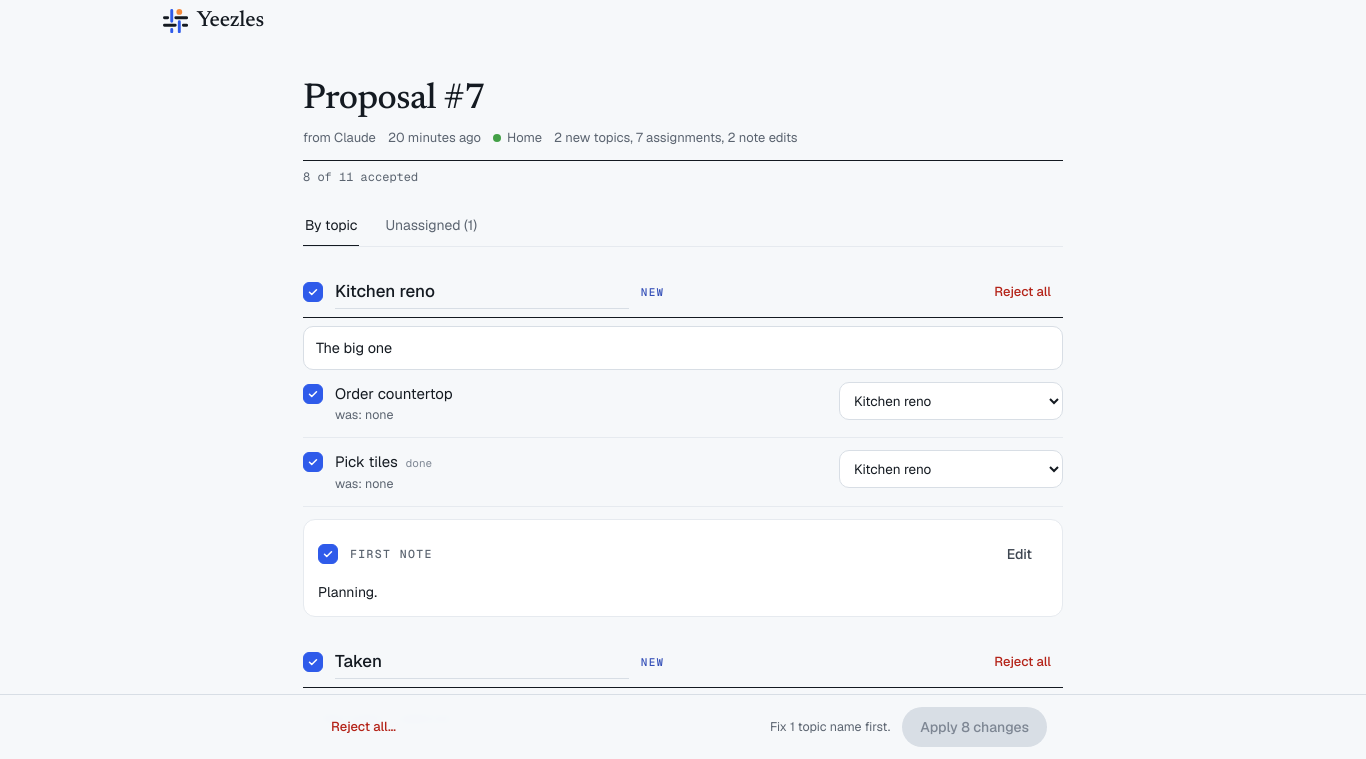
Test: ProposalReview › says "Apply 1 change" for a single accepted item
Click the 1st button "Reject all" at (1023, 292), box 982,276 -> 1063,308
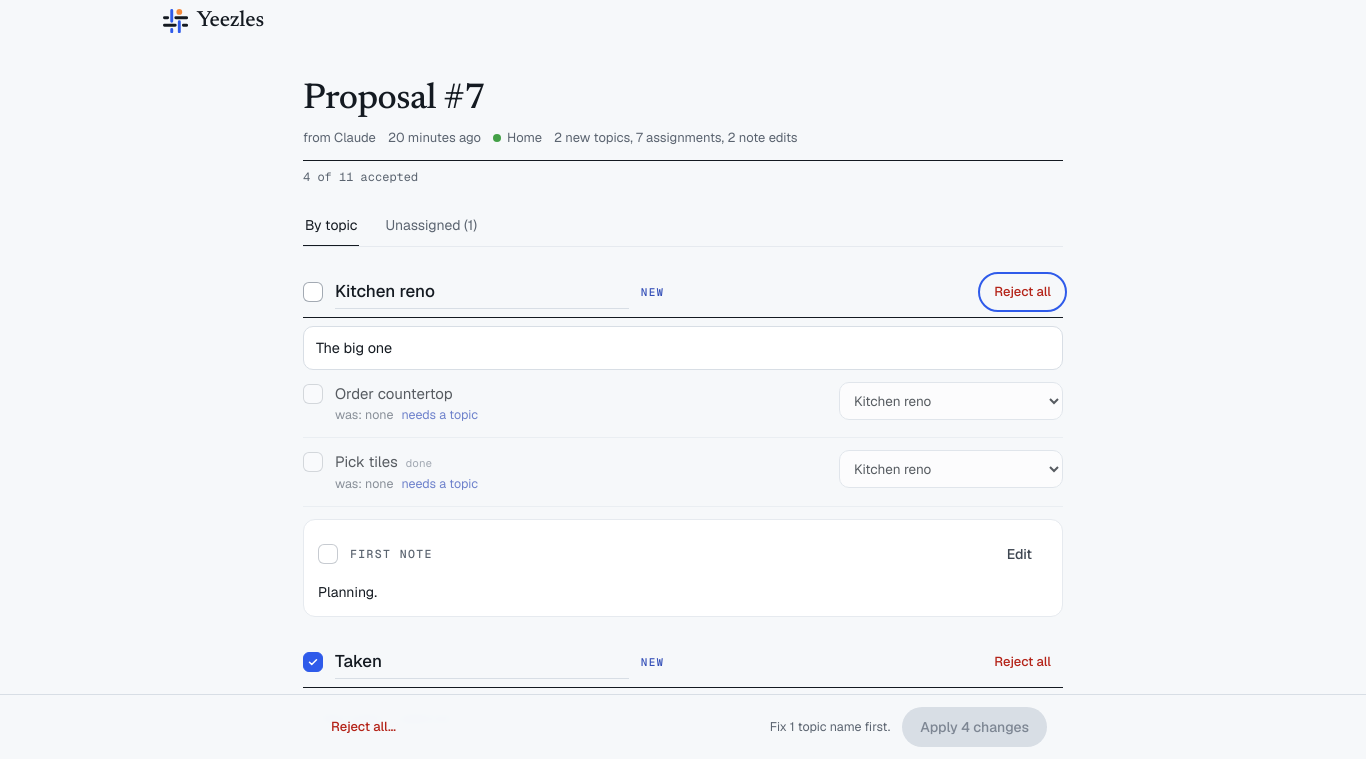
Click the 2nd button "Reject all" at (1023, 662), box 982,646 -> 1063,678
(page scrolled)
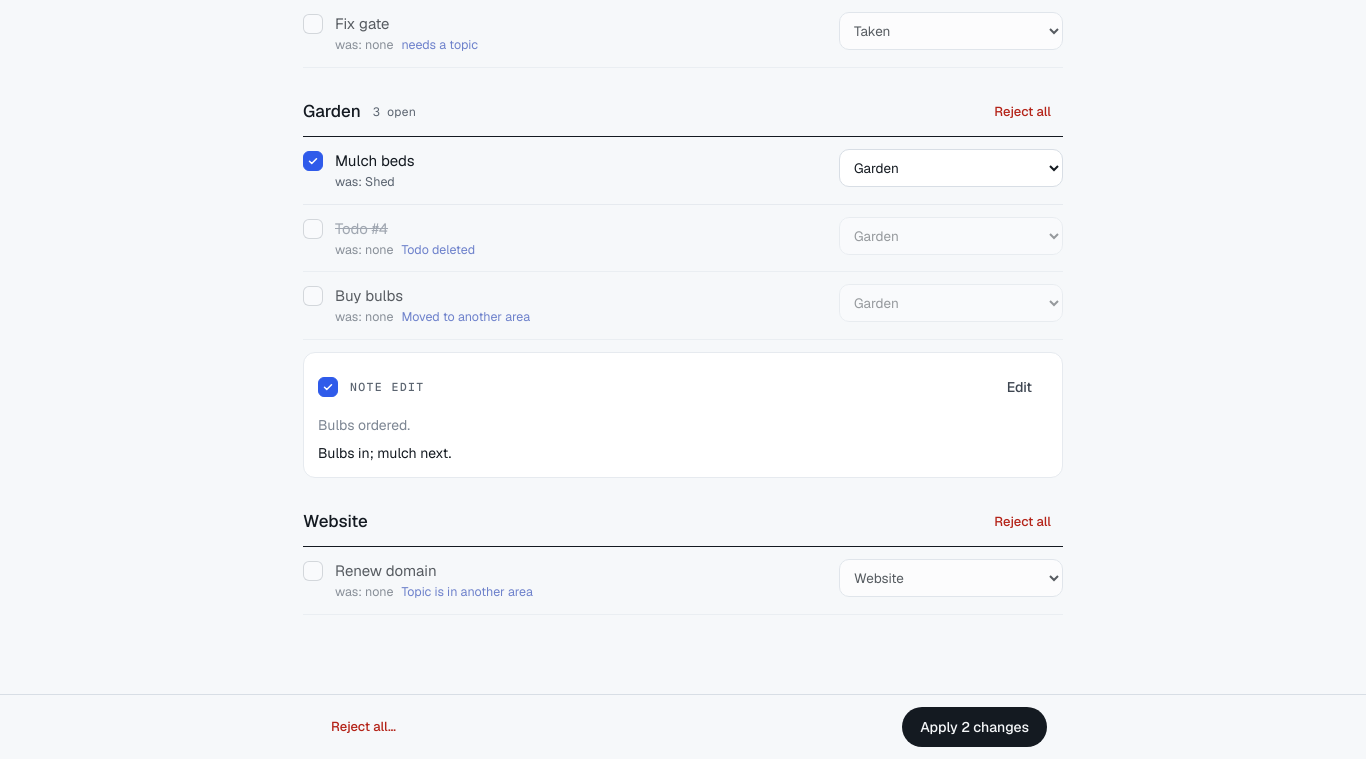
Click the button "Reject all" in the row of "Website" at (1023, 522), box 982,506 -> 1063,538
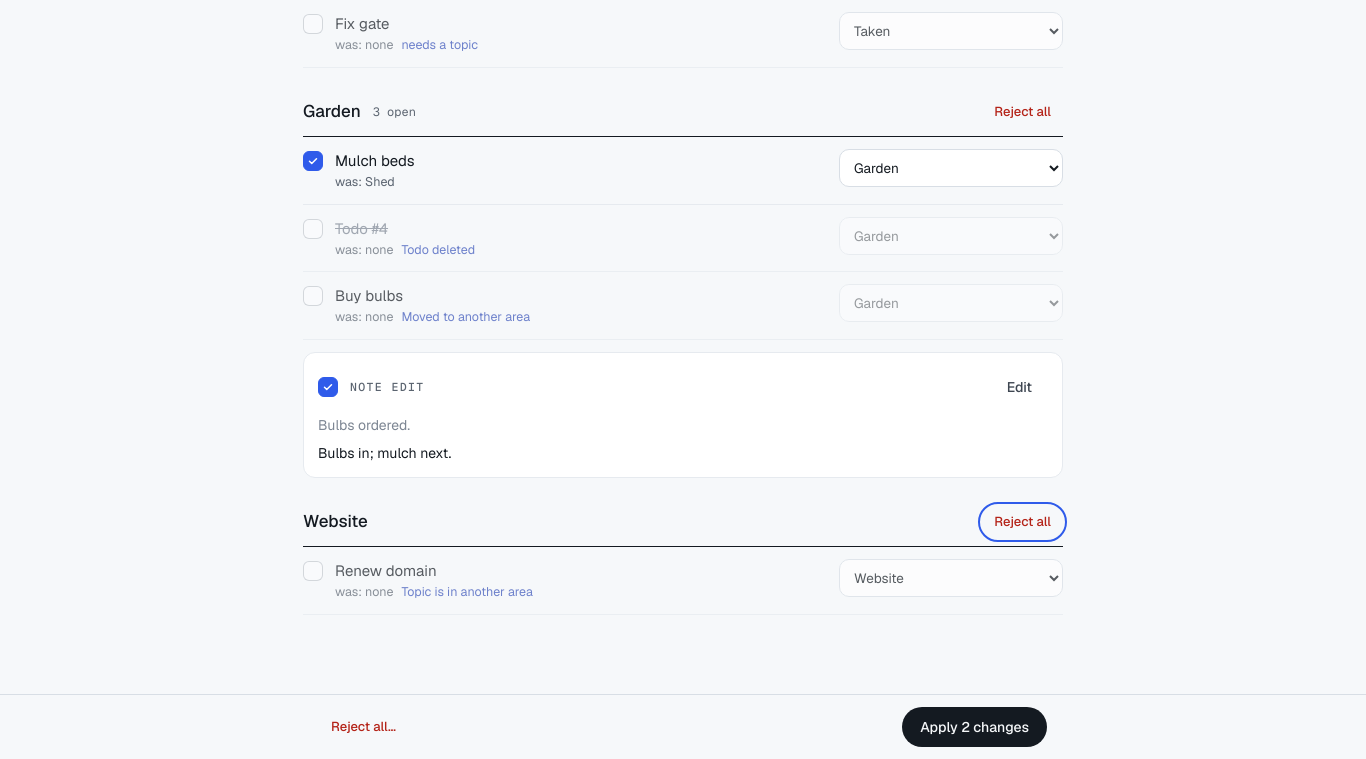
Click the checkbox named "Accept \"Mulch beds\"" at (313, 161), box 303,151 -> 323,171
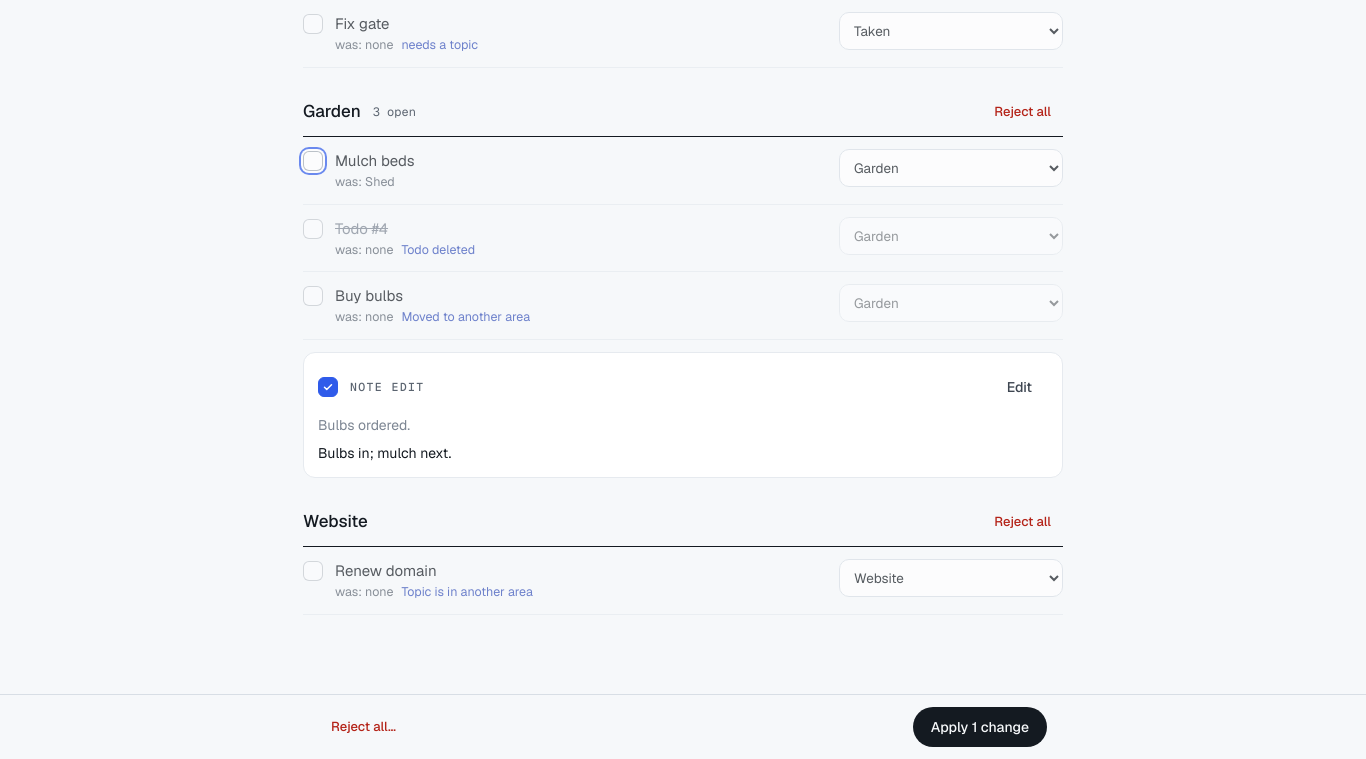
Result: the button "Apply 1 change" is shown at 913,707 -> 1047,747
